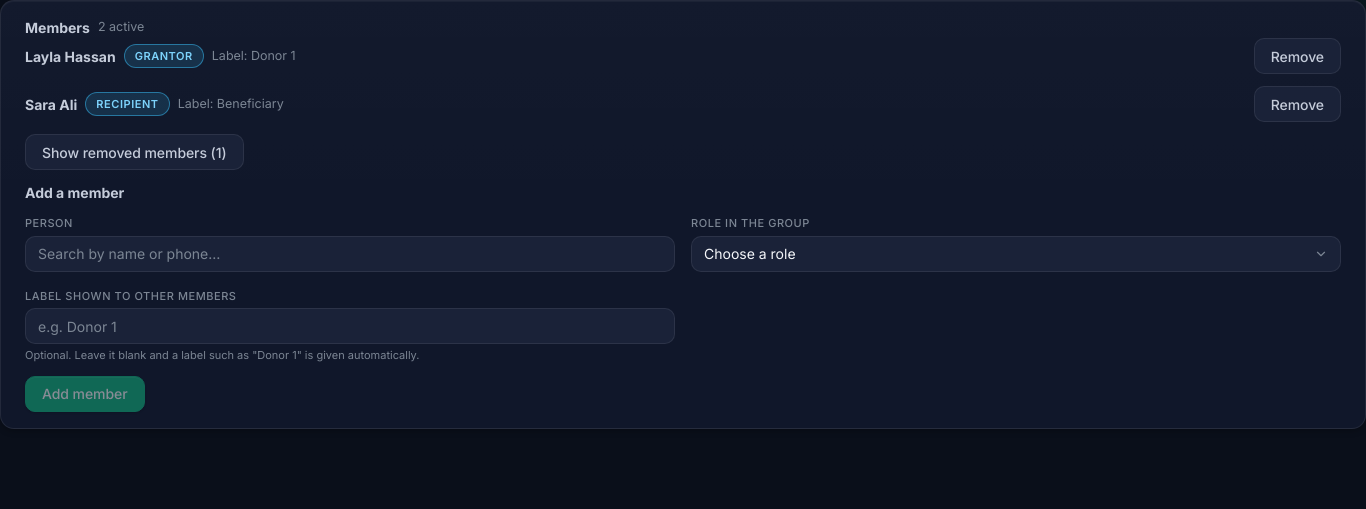
Test: GroupRoster — add › says a removed member comes back with their old label (D3)
Step 1. Type "Omar Khalid" into the dropdown with placeholder "Search by name or phone…" → (350, 254), box [25,236,675,272]
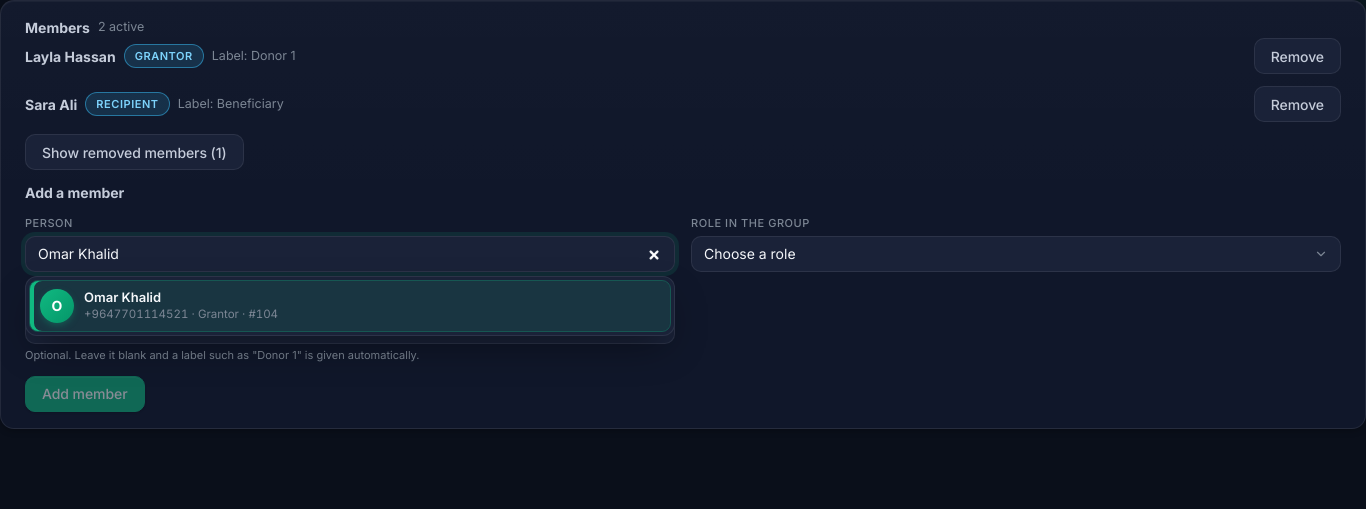
Step 2. Click the option "O Omar Khalid +9647701114521 · Grantor · #104" → (57, 306), box [30,280,670,331]
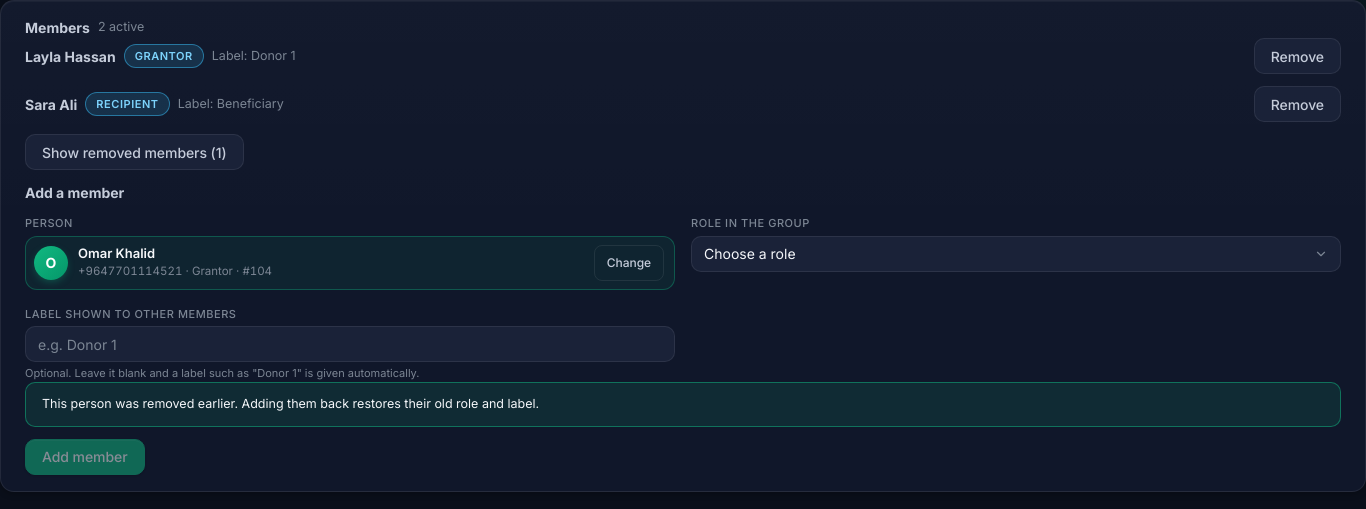
Expected: the text "This person was removed earlier. Adding them back restores their old role and label." is shown, [42,396,539,411]
